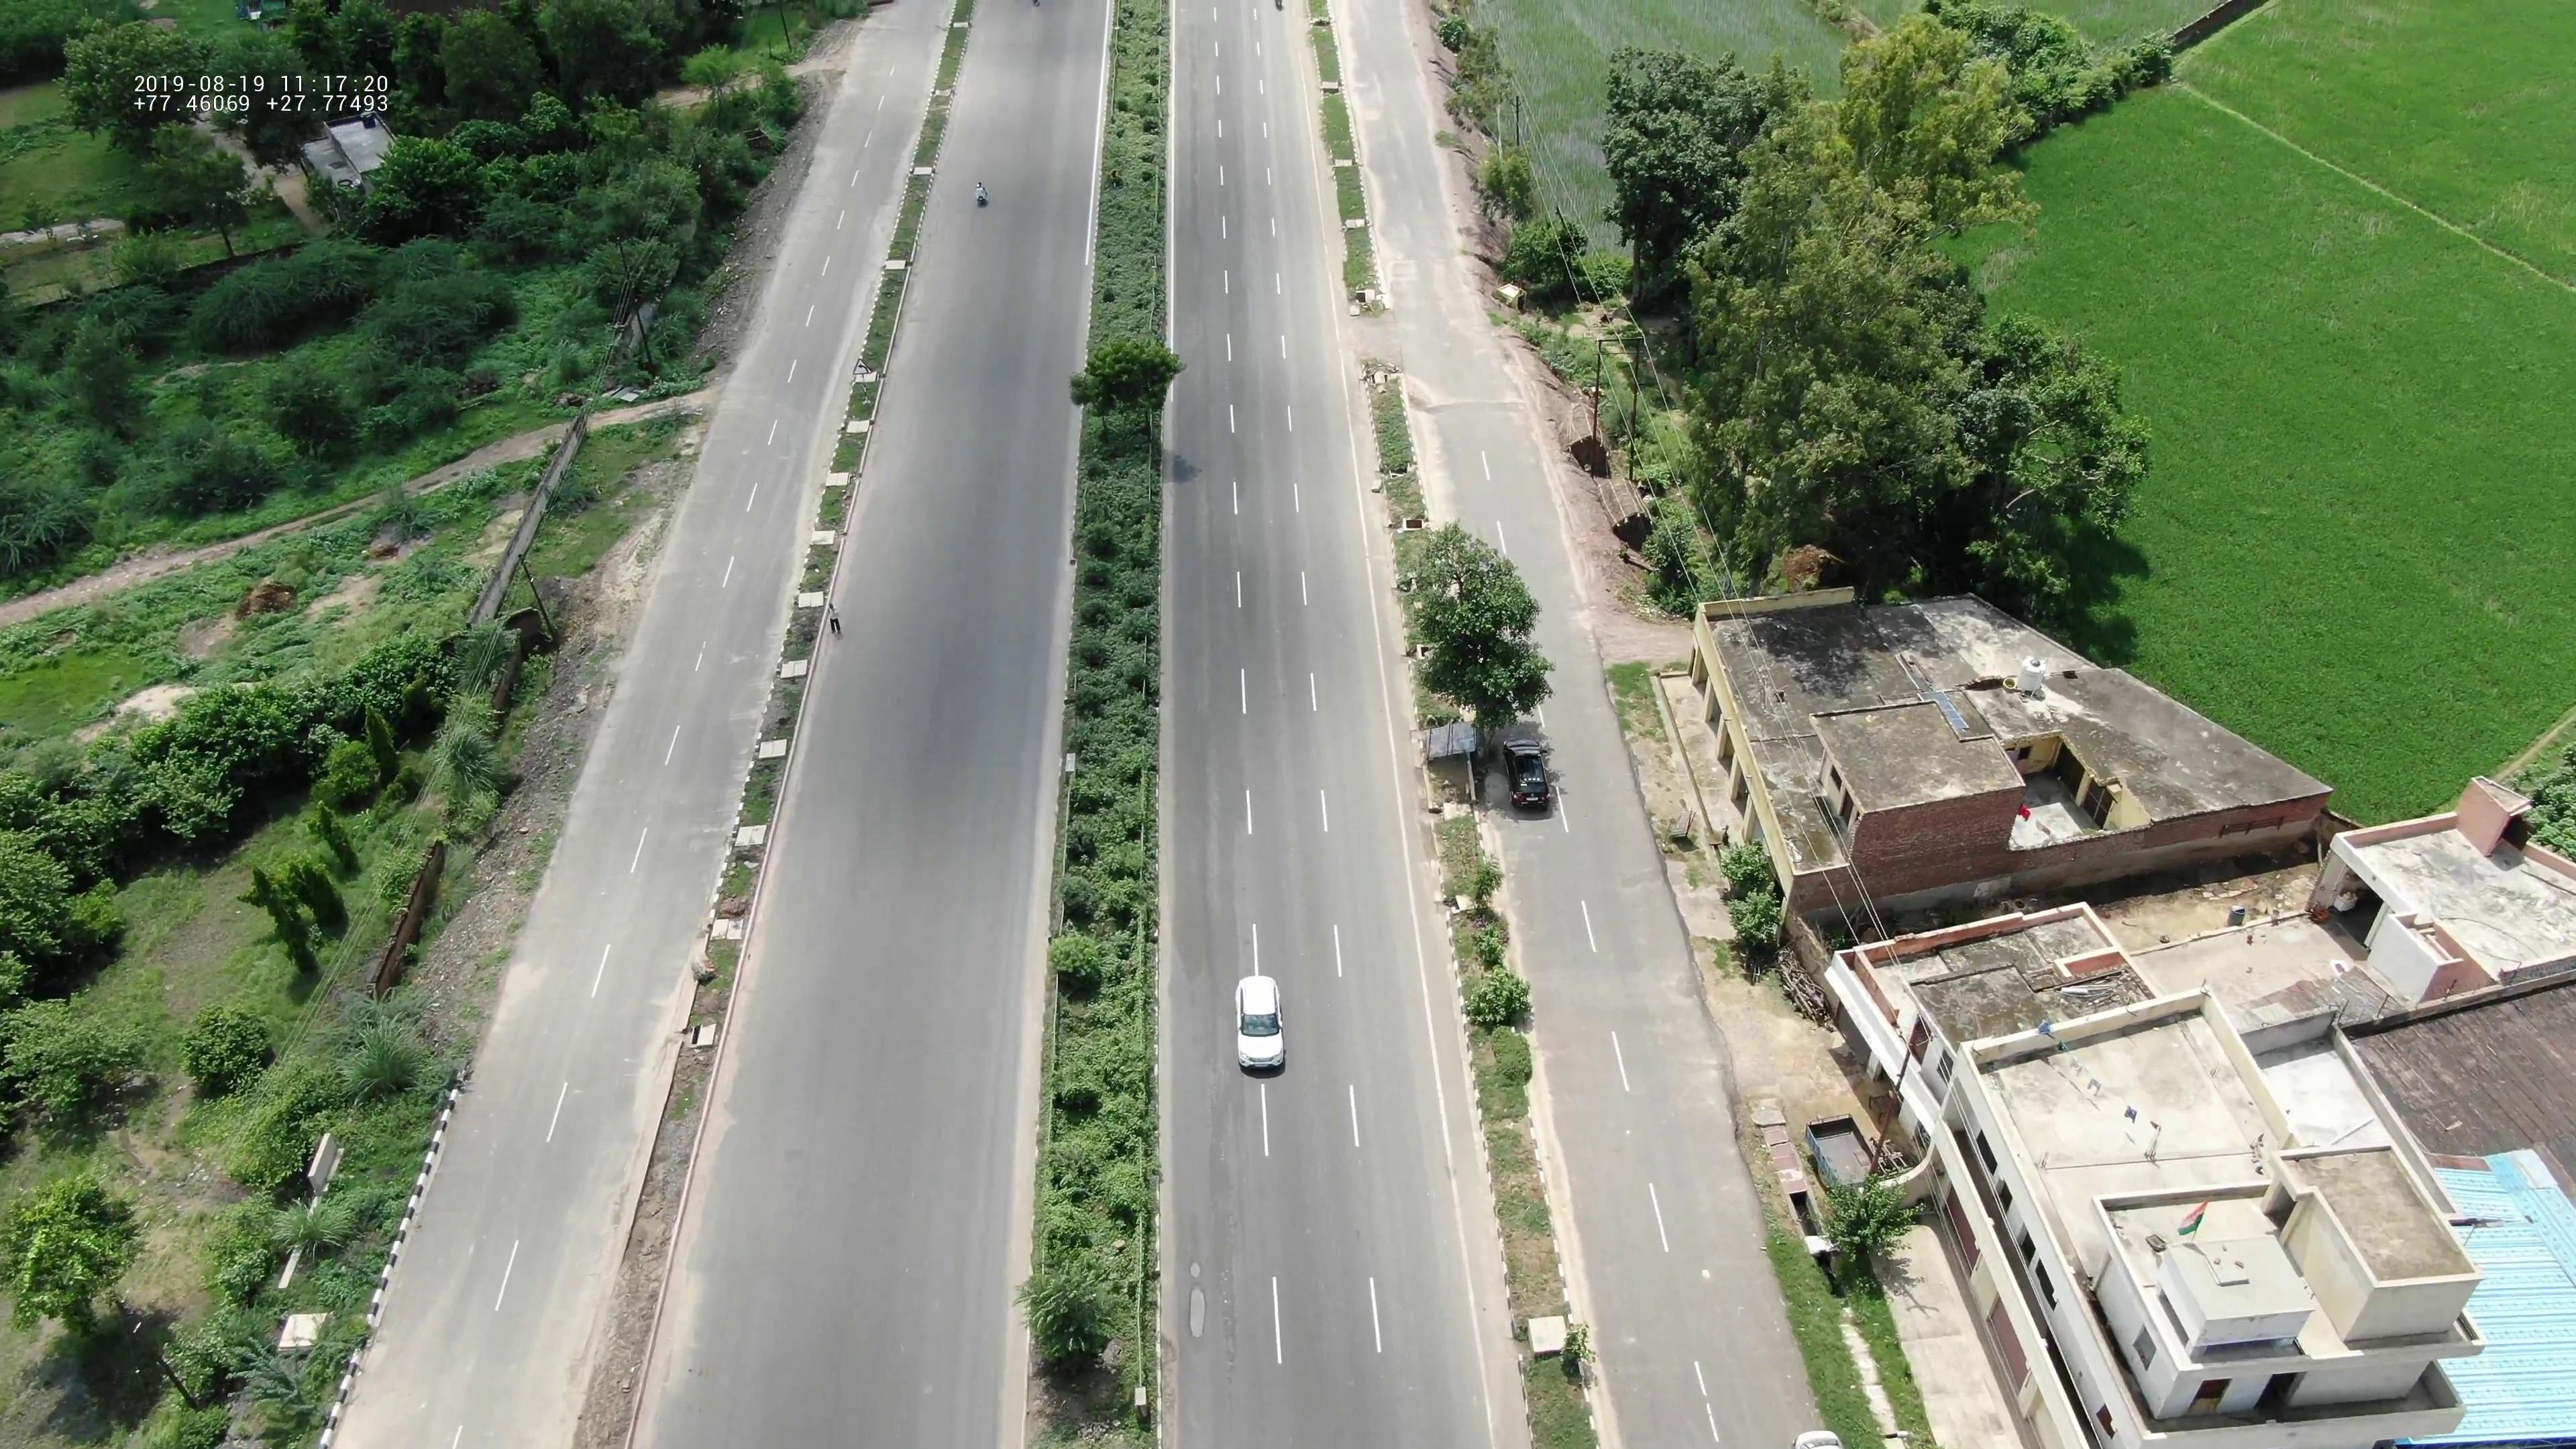Potholes: (1180, 1235, 1230, 1357)
